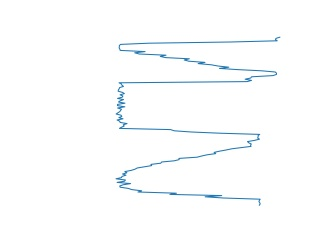distributaryChannelFill: (112, 72, 264, 142)
mouthBar: (116, 34, 282, 76)
underwaterDistributaryChannel: (112, 138, 264, 209)
